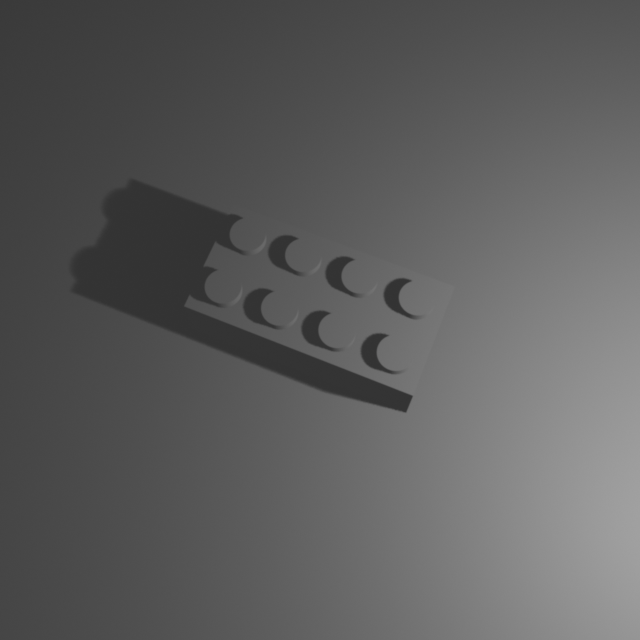lego_2x4: (182, 199, 457, 413)
